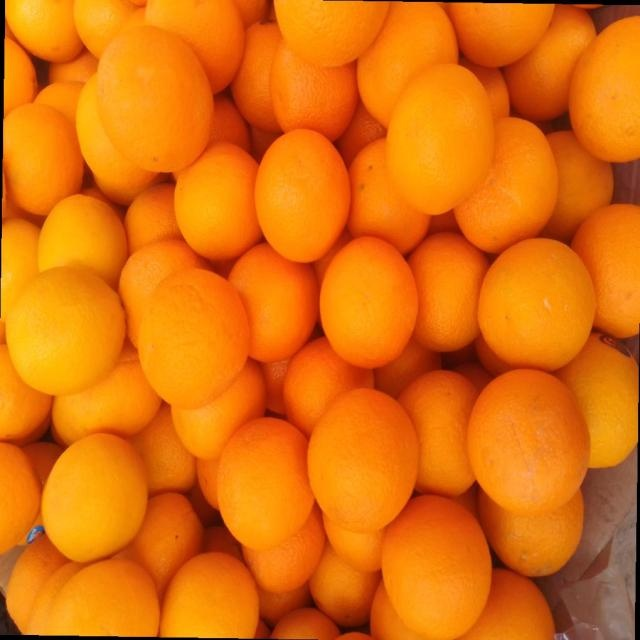agrume: (2, 2, 638, 636), (370, 471, 498, 640), (463, 369, 593, 514), (246, 116, 358, 275), (96, 26, 214, 172), (135, 267, 253, 410), (384, 65, 495, 211), (306, 394, 419, 531), (7, 267, 127, 396), (454, 117, 559, 253), (41, 432, 150, 562), (214, 417, 316, 550), (356, 6, 458, 124), (173, 144, 265, 262), (229, 242, 319, 362), (118, 237, 210, 351), (504, 8, 596, 120), (54, 351, 162, 445), (407, 233, 490, 354), (569, 15, 639, 158), (347, 139, 432, 253), (171, 358, 265, 460), (143, 0, 247, 91), (40, 558, 160, 636), (572, 204, 640, 338), (2, 104, 83, 216), (36, 194, 130, 289), (270, 42, 358, 141), (160, 552, 260, 636), (239, 500, 325, 594), (273, 1, 391, 68), (539, 133, 613, 239), (129, 492, 203, 594), (448, 4, 556, 66), (231, 20, 284, 131), (6, 0, 84, 62), (124, 183, 188, 251), (72, 0, 141, 60)
